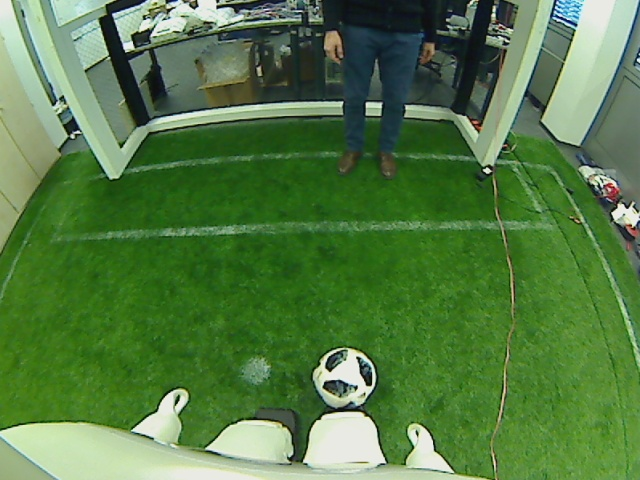ball: (309, 343, 378, 410)
